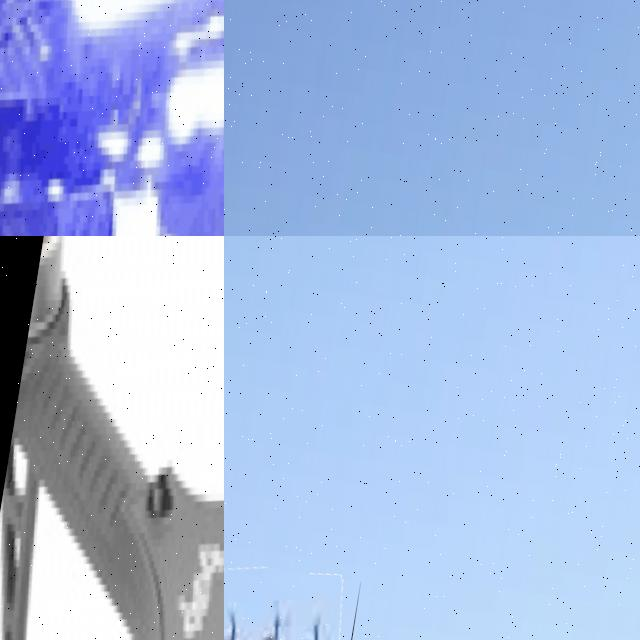0: (224, 558, 361, 640)
drone: (0, 236, 224, 640), (0, 0, 224, 236)
